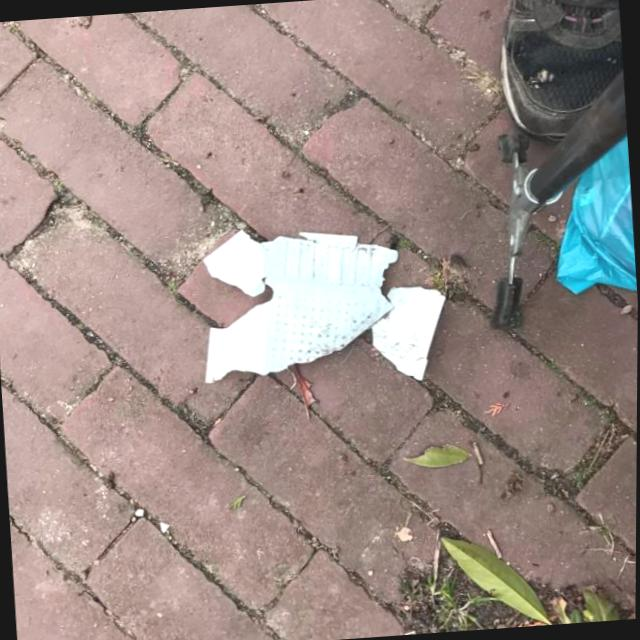Plastic: (192, 214, 456, 398)
